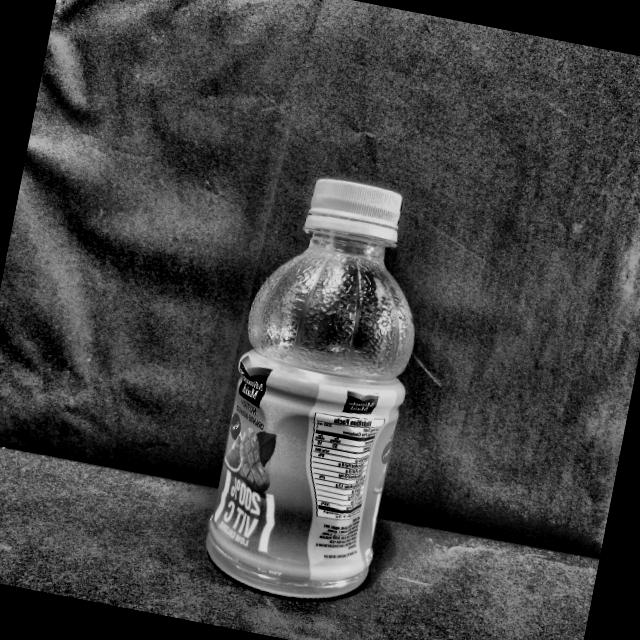Plastic-Bottle: (191, 162, 448, 616)
